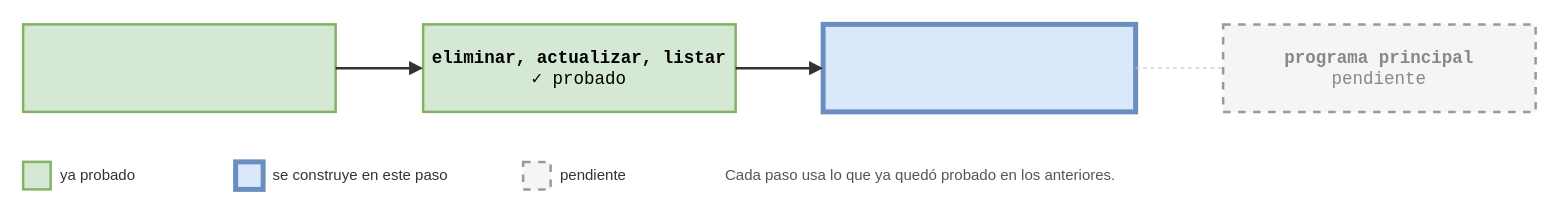
This 1558x215 diagram has some shape labels left out. The shapes that lost their labels are listed below. From the top down, each one's box as (x1, y1, x2, y2) in pixels, then its label:
(21, 22, 336, 112): buscar y agregar ✓ probado
(820, 21, 1138, 114): ordenar por nota y por nombre
